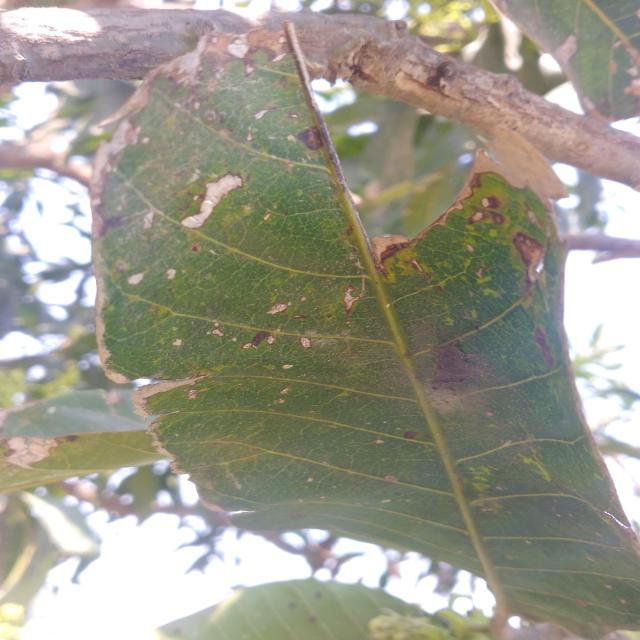Anthracnose: (469, 202, 512, 235)
Bacterial Cancer: (178, 167, 269, 242), (369, 229, 406, 257)
